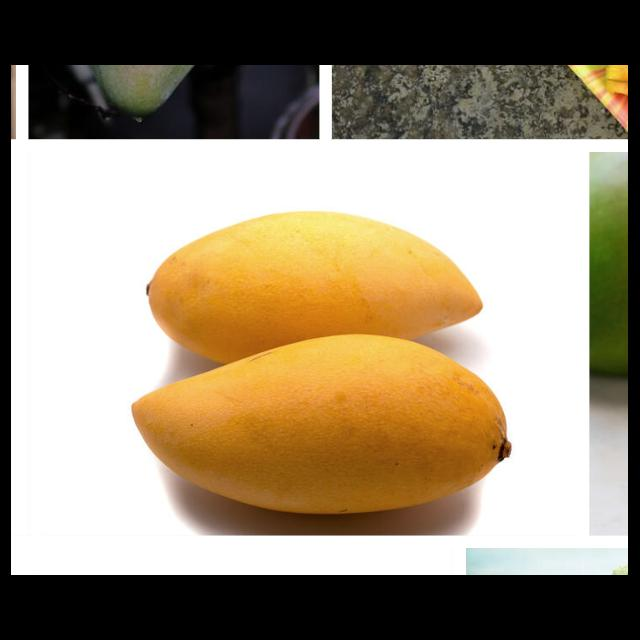mango: (127, 334, 509, 514), (146, 209, 486, 366)
